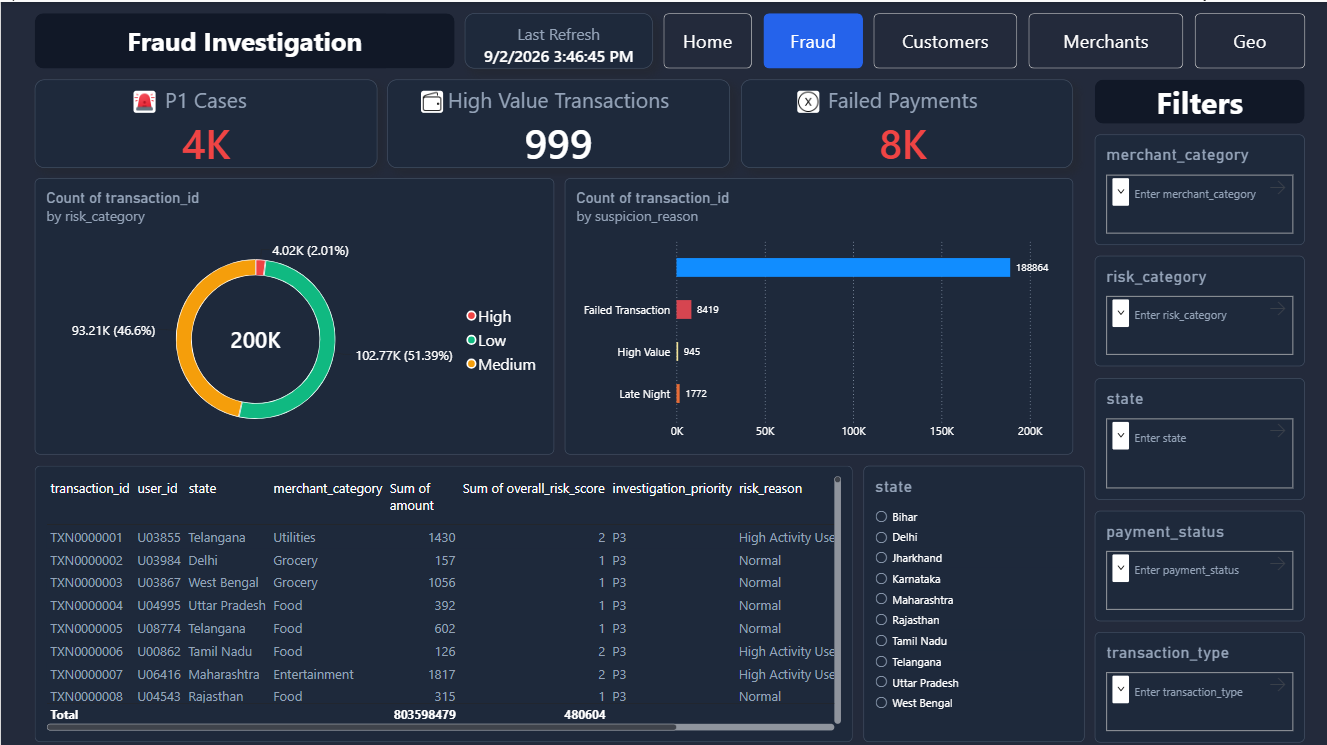

The dashboard page shown, as its layout file describes it:
{"tool":"powerbi","page":{"name":"Fraud Investigation","canvas":[1920,1080],"ordinal":1},"visuals":[{"type":"actionButton","title":"30_Nav_Home","box":[960,16,128,80],"z":0},{"type":"actionButton","title":"33_Nav_Merchant","box":[1488,16,224,80],"z":1000},{"type":"actionButton","title":"31_Nav_Fraud","box":[1104,16,144,80],"z":2000},{"type":"actionButton","title":"32_Nav_Customer","box":[1264,16,208,80],"z":3000},{"type":"actionButton","title":"34_Nav_Geo","box":[1728,16,160,80],"z":4000},{"type":"cardVisual","title":"16_KPI_P1","fields":{"Data":["Measures (4).P1 Cases"]},"box":[48,112,496,128],"z":5000},{"type":"image","box":[192,128,32,32],"z":6000},{"type":"cardVisual","title":"18_KPI_High_Value","fields":{"Data":["Measures (4).High Value Transactions"]},"box":[560,112,496,128],"z":7000},{"type":"image","box":[608,128,32,32],"z":8000},{"type":"cardVisual","title":"20_KPI_Failed_Payment","fields":{"Data":["Measures (4).Failed Payments"]},"box":[1072,112,480,128],"z":9000},{"type":"image","box":[1152,128,32,32],"z":10000},{"type":"clusteredBarChart","fields":{"Category":["transactions.suspicion_reason"],"Y":["CountNonNull(transactions.transaction_id)"]},"box":[816,256,736,400],"z":11000},{"type":"donutChart","fields":{"Category":["transactions.risk_category"],"Y":["CountNonNull(transactions.transaction_id)"]},"box":[48,256,752,400],"z":12000},{"type":"tableEx","fields":{"Values":["transactions.transaction_id","transactions.user_id","transactions.state","transactions.merchant_category","Sum(transactions.amount)","Sum(transactions.overall_risk_score)","transactions.investigation_priority","transactions.risk_reason"]},"box":[48,672,1184,400],"z":13000},{"type":"shape","title":"02_Dashboard_Title","box":[48,16,608,80],"z":14000},{"type":"textSlicer","fields":{"Values":["transactions.merchant_category"]},"box":[1584,192,304,160],"z":16000},{"type":"textSlicer","fields":{"Values":["transactions.risk_category"]},"box":[1584,368,304,160],"z":17000},{"type":"textSlicer","fields":{"Values":["transactions.state"]},"box":[1584,544,304,176],"z":18000},{"type":"textSlicer","fields":{"Values":["transactions.payment_status"]},"box":[1584,736,304,160],"z":19000},{"type":"textSlicer","fields":{"Values":["transactions.transaction_type"]},"box":[1584,912,304,160],"z":20000},{"type":"shape","title":"02_Dashboard_Title","box":[1584,112,304,64],"z":21000},{"type":"cardVisual","title":"04_Last_Refresh","fields":{"Data":["Measures (4).Last Refresh"]},"box":[672,16,272,80],"z":22000},{"type":"listSlicer","fields":{"Values":["transactions.state"]},"box":[1248,672,320,400],"z":22001}]}

Visuals, with their boxes in screenshot pixels (x1, y1, x2, y2), scaled from the page's 1920x1080 canvas onto the 1327x745 screenshot:
"30_Nav_Home" actionButton: 664:11:752:66
"33_Nav_Merchant" actionButton: 1028:11:1183:66
"31_Nav_Fraud" actionButton: 763:11:863:66
"32_Nav_Customer" actionButton: 874:11:1017:66
"34_Nav_Geo" actionButton: 1194:11:1305:66
"16_KPI_P1" cardVisual: 33:77:376:166
image: 133:88:155:110
"18_KPI_High_Value" cardVisual: 387:77:730:166
image: 420:88:442:110
"20_KPI_Failed_Payment" cardVisual: 741:77:1073:166
image: 796:88:818:110
clusteredBarChart - transactions.suspicion_reason x CountNonNull(transactions.transaction_id): 564:177:1073:453
donutChart - transactions.risk_category x CountNonNull(transactions.transaction_id): 33:177:553:453
tableEx - transactions.transaction_id x transactions.user_id: 33:464:851:739
"02_Dashboard_Title" shape: 33:11:453:66
textSlicer - transactions.merchant_category: 1095:132:1305:243
textSlicer - transactions.risk_category: 1095:254:1305:364
textSlicer - transactions.state: 1095:375:1305:497
textSlicer - transactions.payment_status: 1095:508:1305:618
textSlicer - transactions.transaction_type: 1095:629:1305:739
"02_Dashboard_Title" shape: 1095:77:1305:121
"04_Last_Refresh" cardVisual: 464:11:652:66
listSlicer - transactions.state: 863:464:1084:739
